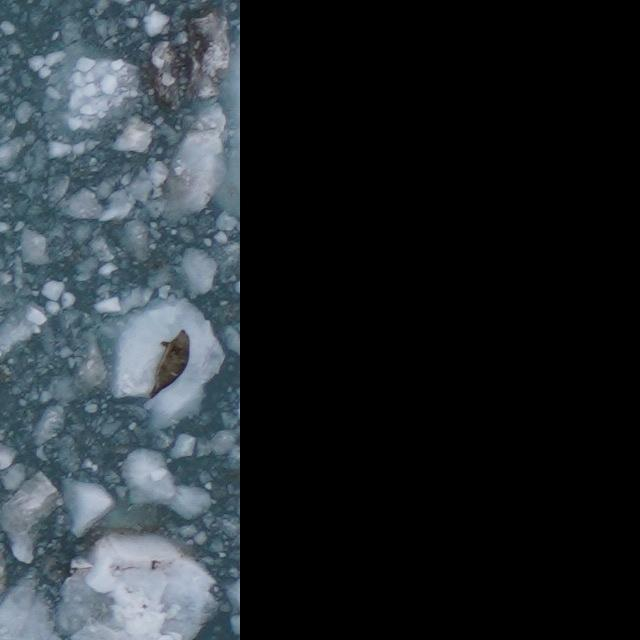seal: (143, 327, 193, 402)
